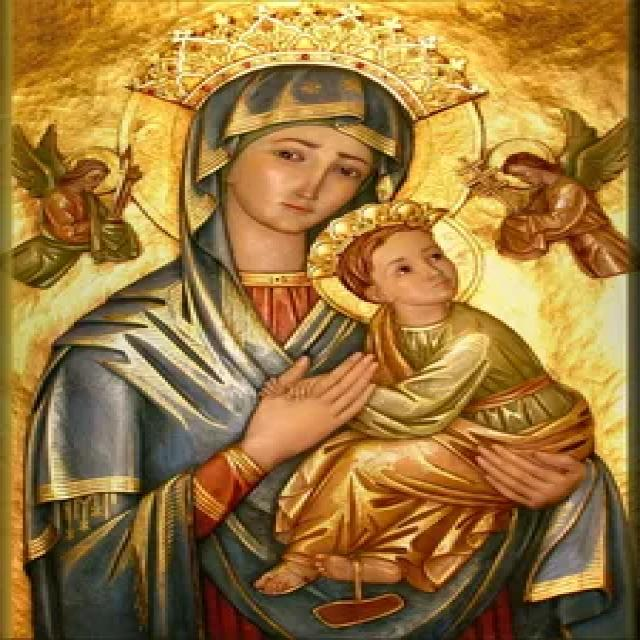mother of god: (18, 56, 640, 640)
